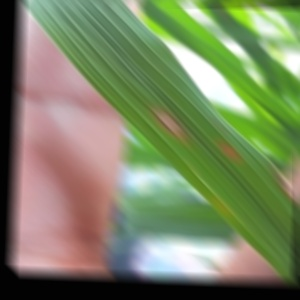Brown_Spot: (206, 132, 256, 178), (143, 93, 187, 144)
